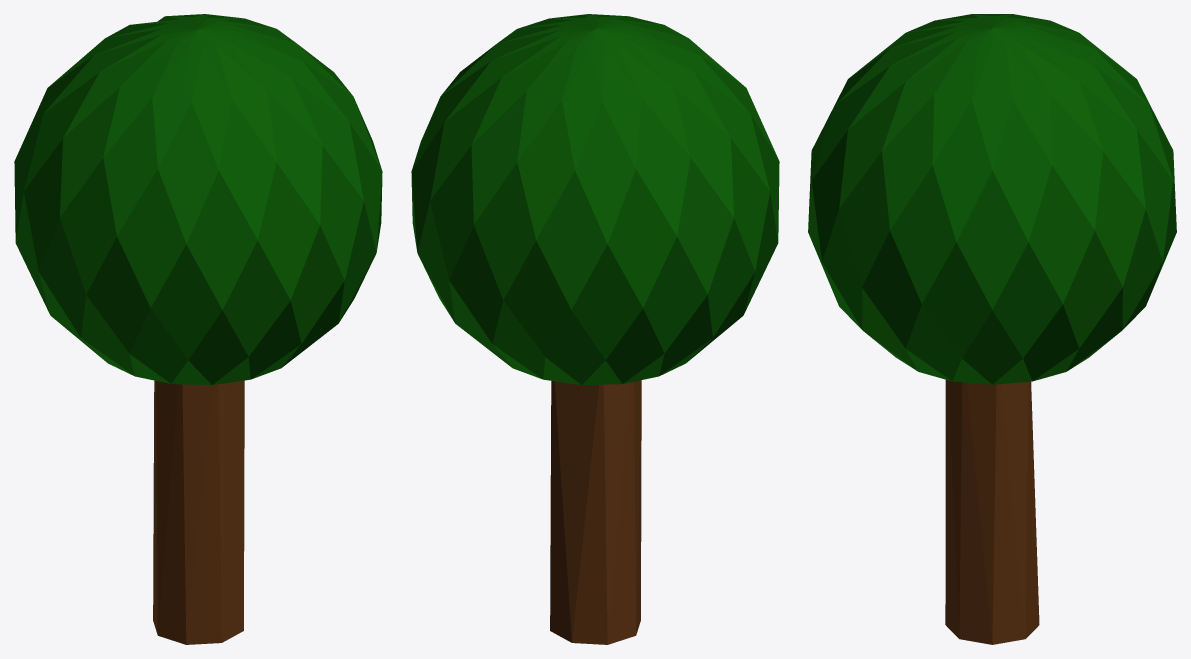
The model's file is Tree_MidLowPoly.fbx.
3 views of the same model, side by side, from view 1: azimuth 30°, elevation 25°; view 2: azimuth 150°, elevation 25°; view 3: azimuth 270°, elevation 25° (orthographic).
Visible parts, largest first — view 1: Leaves, Trunk; view 2: Leaves, Trunk; view 3: Leaves, Trunk.
Part boxes in pixels (x1,y1,x2,y2): Leaves: (14, 14, 382, 385); Trunk: (153, 380, 244, 644); Leaves: (411, 14, 779, 385); Trunk: (550, 380, 641, 644); Leaves: (808, 14, 1176, 384); Trunk: (945, 380, 1039, 644).
Size of the model in its own units: 785 by 1400 by 785.
